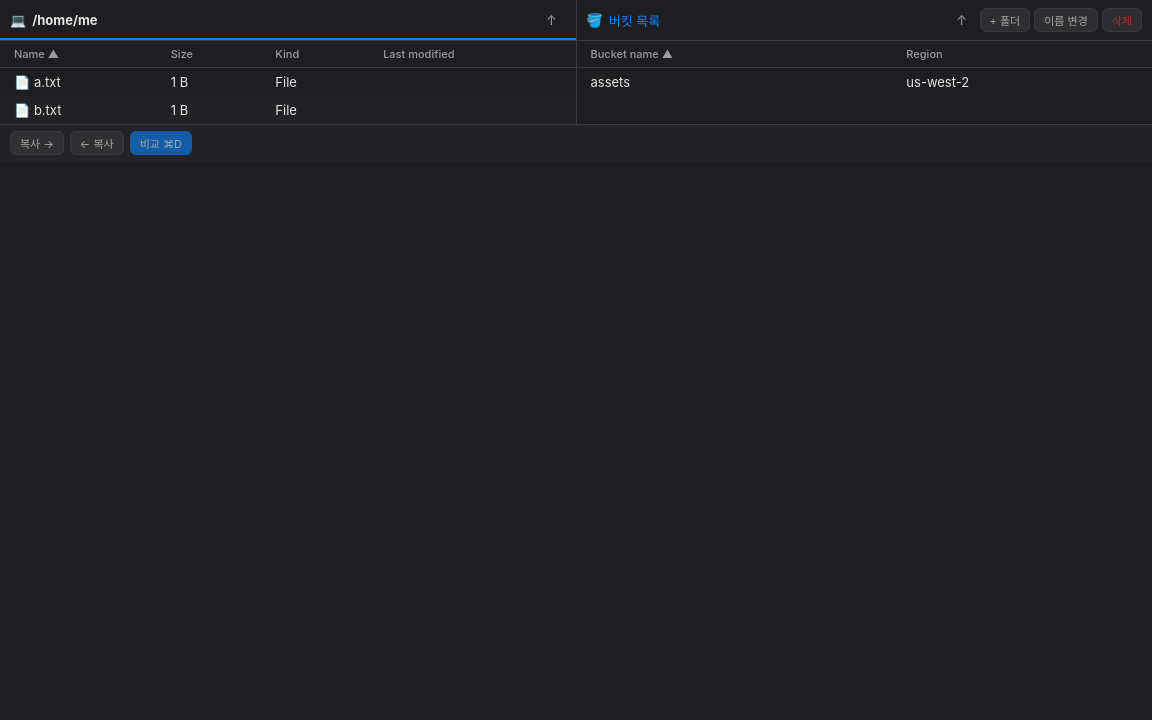
Scenario: new folder error keeps dialog open
Double-click the text "assets": (610, 82) [576,68,892,96]
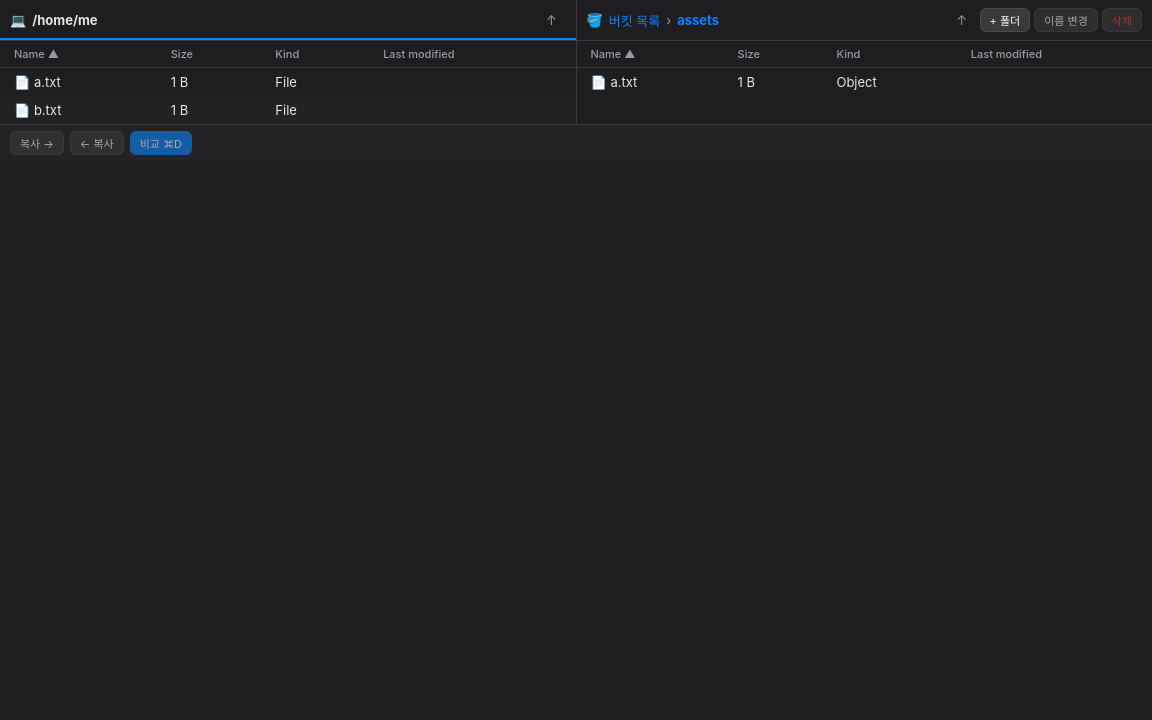
Now the text "📄 a.txt" in the row of "Object" is shown, box [590,74,637,90]
Click the button "+ 폴더": (1005, 20) [980,8,1030,32]
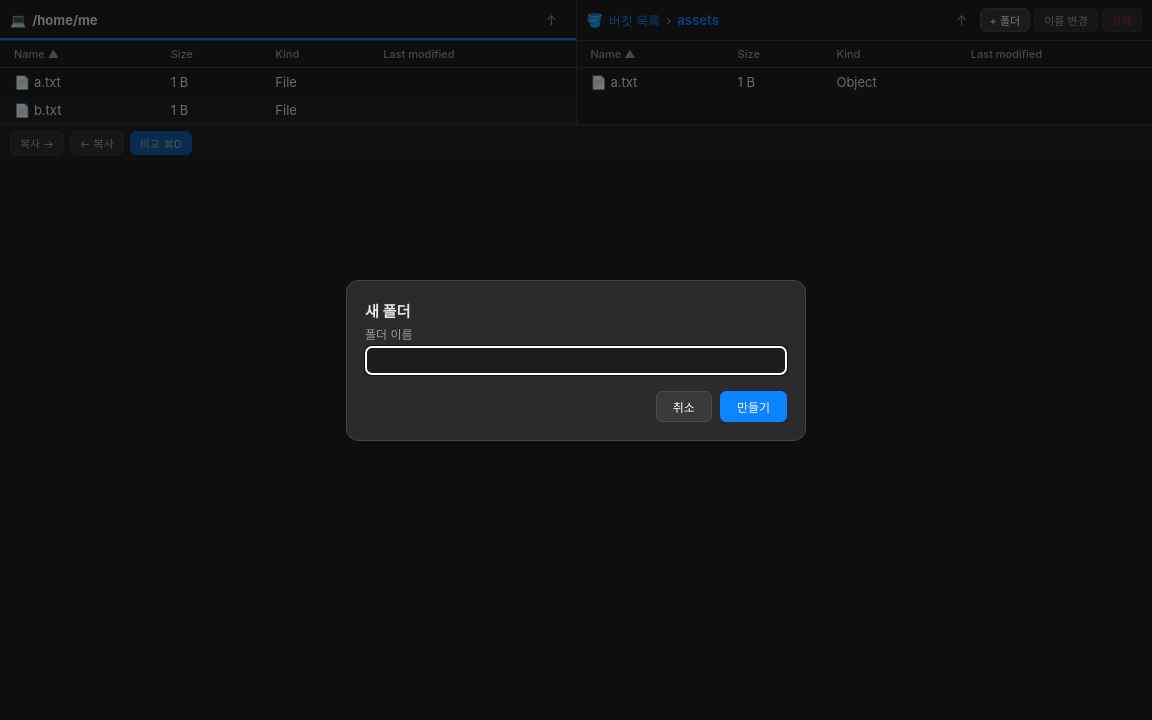
Click the button "만들기": (753, 406) [720,390,787,422]
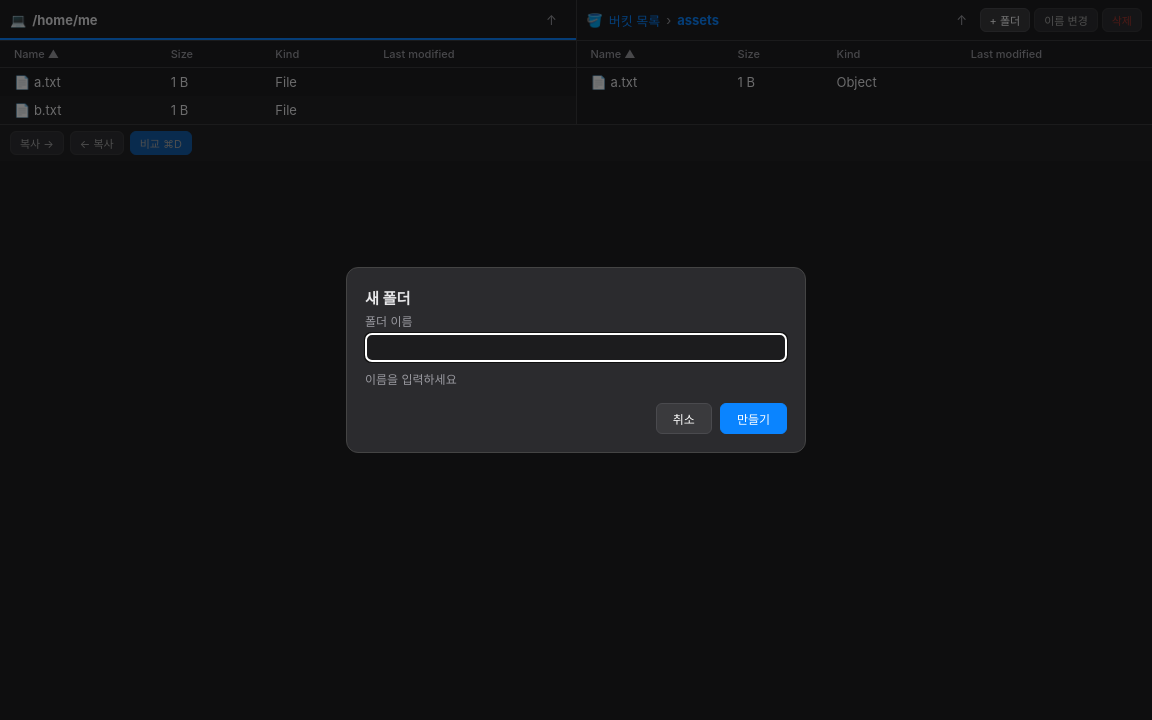
Now the dialog "새 폴더" is shown, box [346,267,806,453]
Now the text "이름을 입력하세요" is shown, box [365,372,457,387]
